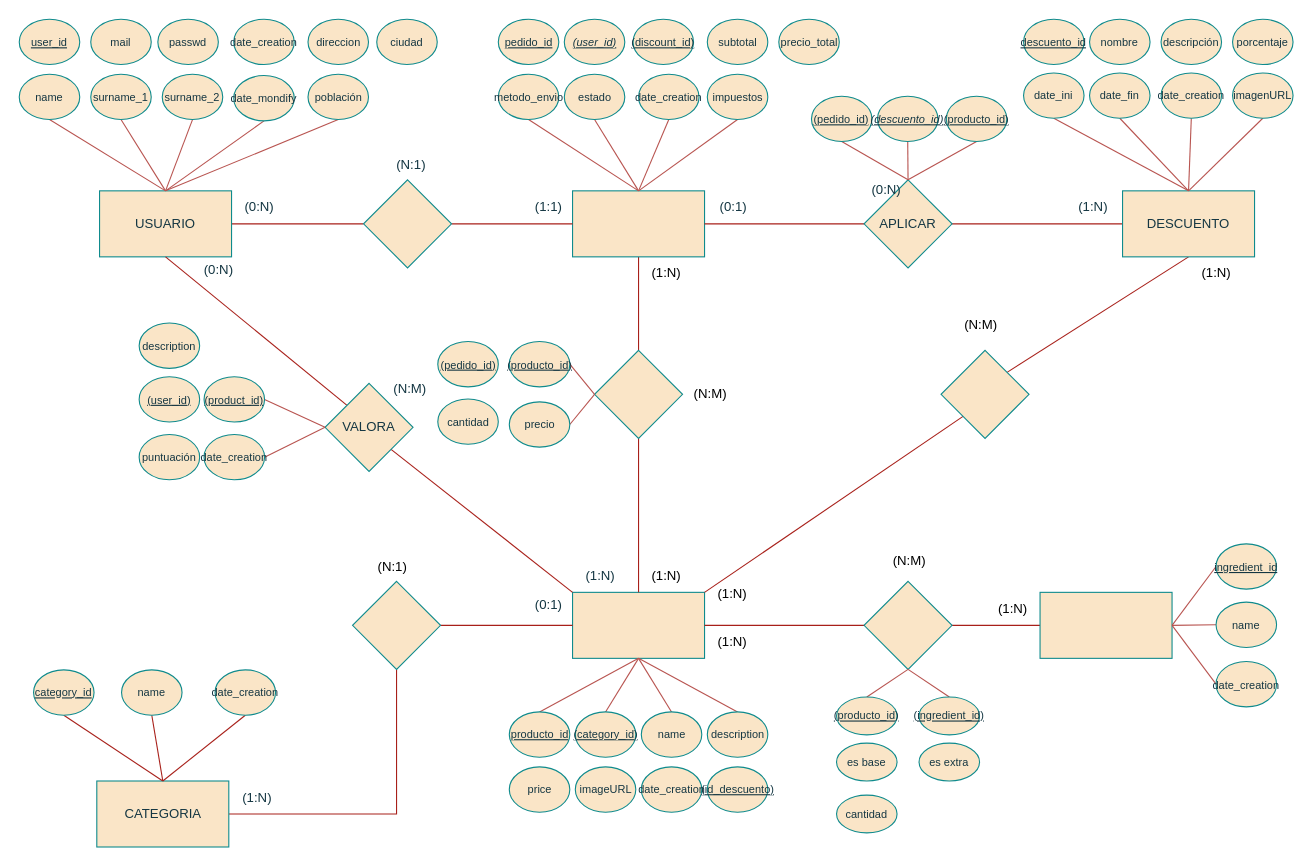
This 1312x867 diagram has some shape labels left out. Each missing label, with the centre of its shape:
"COMPUESTO" belongs at (638,393).
"CONTIENE" belongs at (907,624).
"INGREDIENTE" belongs at (1105,624).
"PEDIDOS" belongs at (638,223).
"PERTENEZE" belongs at (396,624).
"PRODUCTO" belongs at (638,624).
"REALIZA" belongs at (407,223).
"TIENE" belongs at (984,393).
